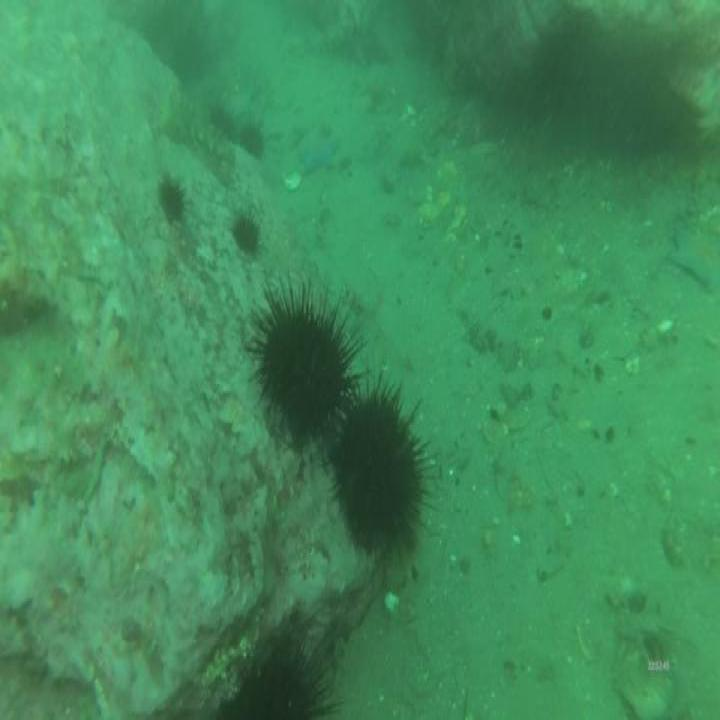echinus: (336, 389, 420, 553), (258, 304, 349, 436), (231, 654, 320, 720), (232, 215, 257, 258), (210, 103, 238, 141), (238, 121, 263, 160), (159, 178, 182, 220)
holothurian: (163, 86, 230, 164)
scallop: (384, 592, 400, 615)
starfish: (673, 228, 720, 292), (297, 132, 336, 170)
